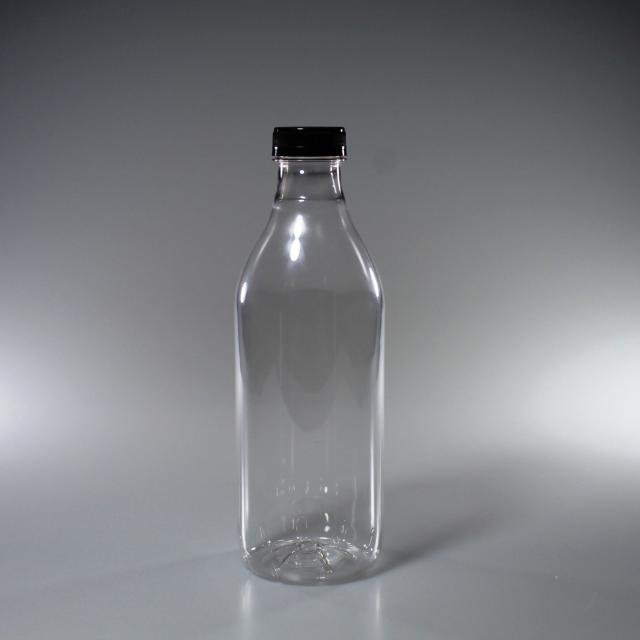bottom: (220, 518, 398, 596)
cap: (264, 116, 355, 182)
